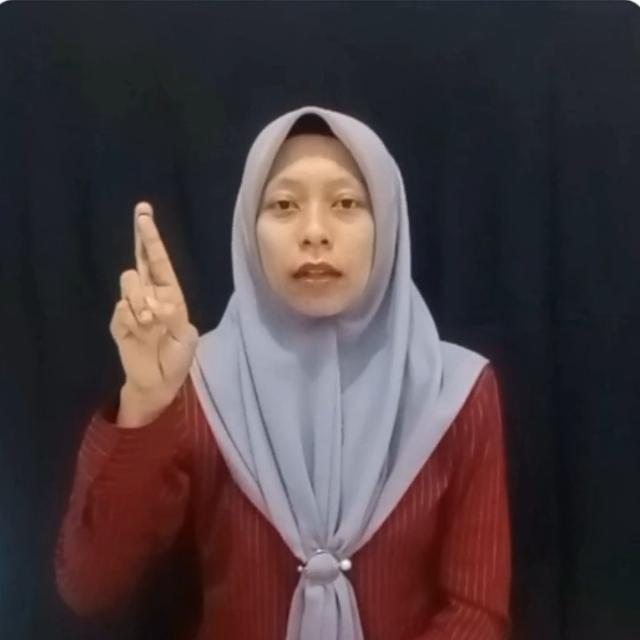R: (101, 194, 201, 393)
